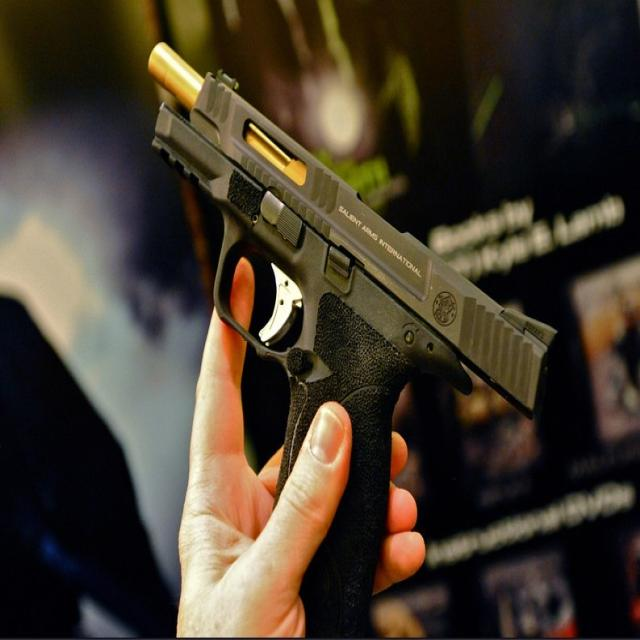pistol: (147, 41, 549, 640)
